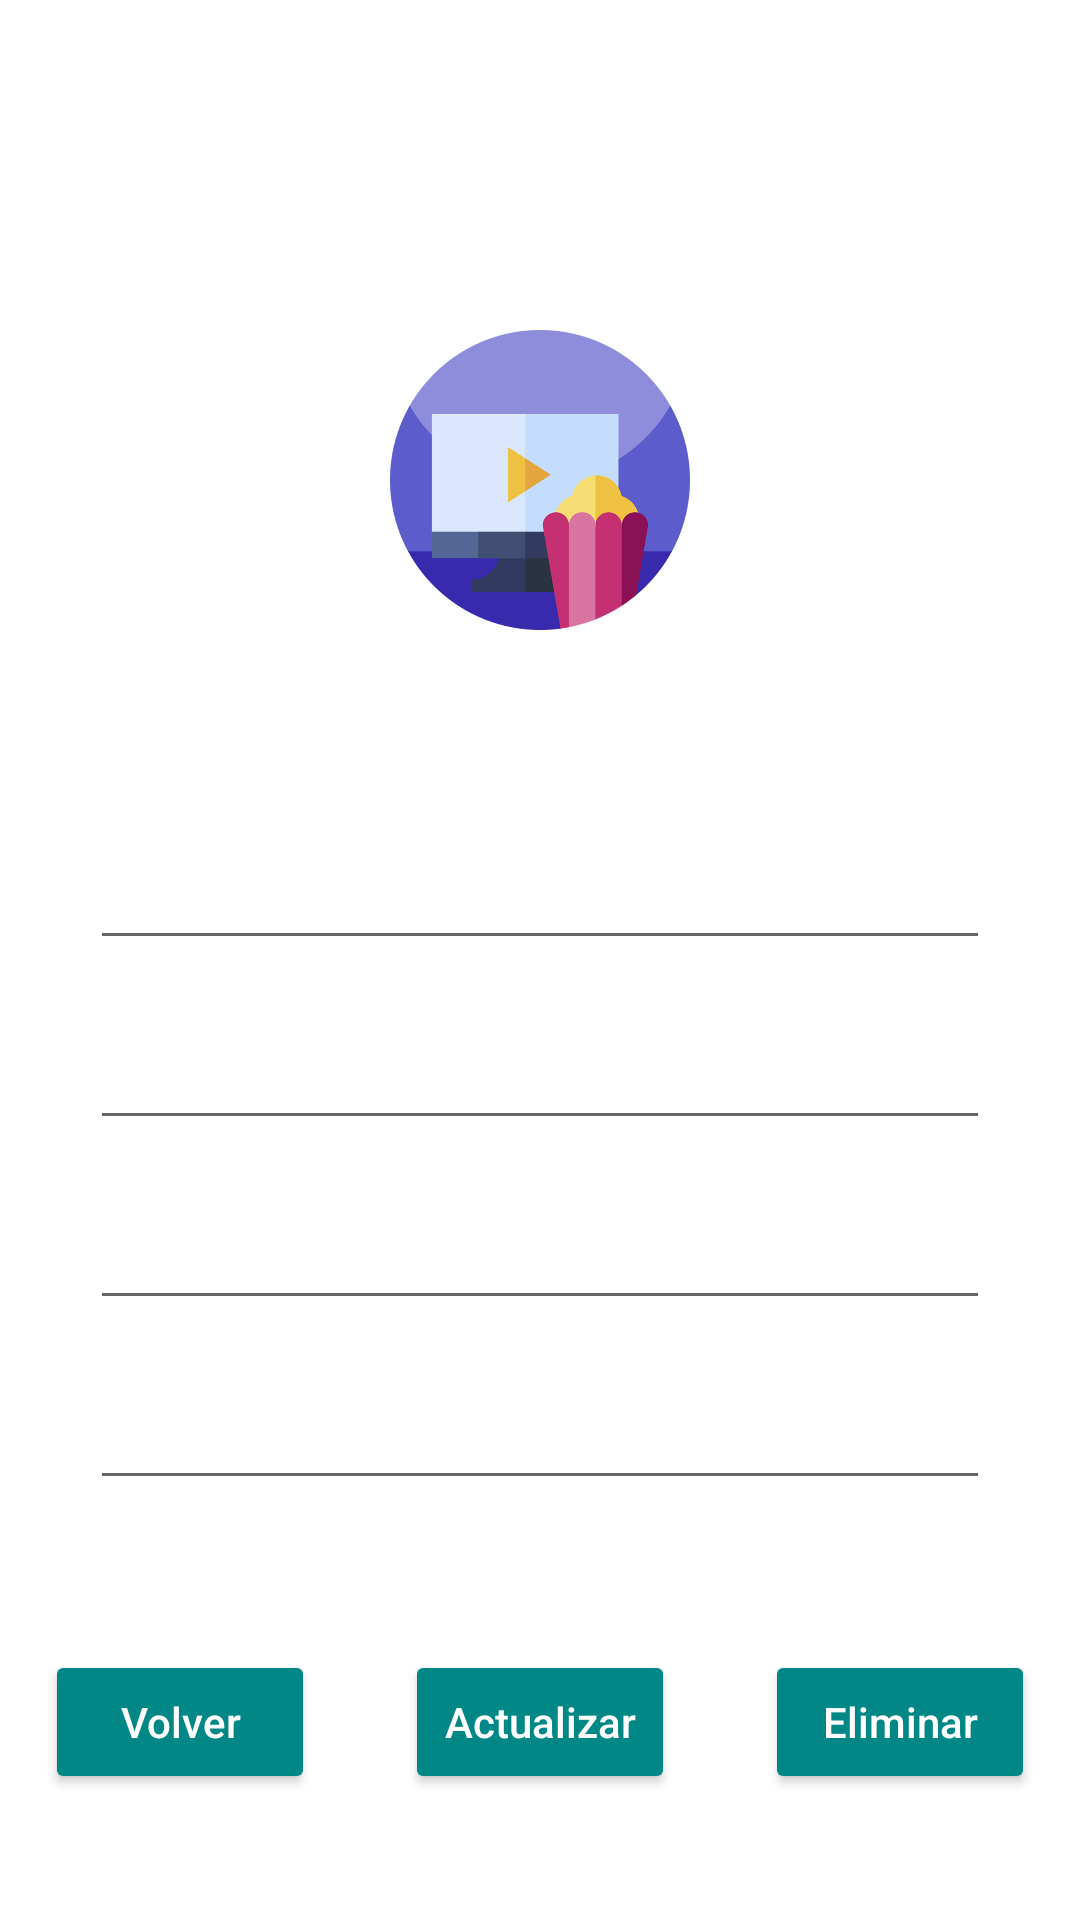

Point at icon controls on the screen. Image size 1080 × 1920, points as point (x, y).
peli: point (540, 480)
